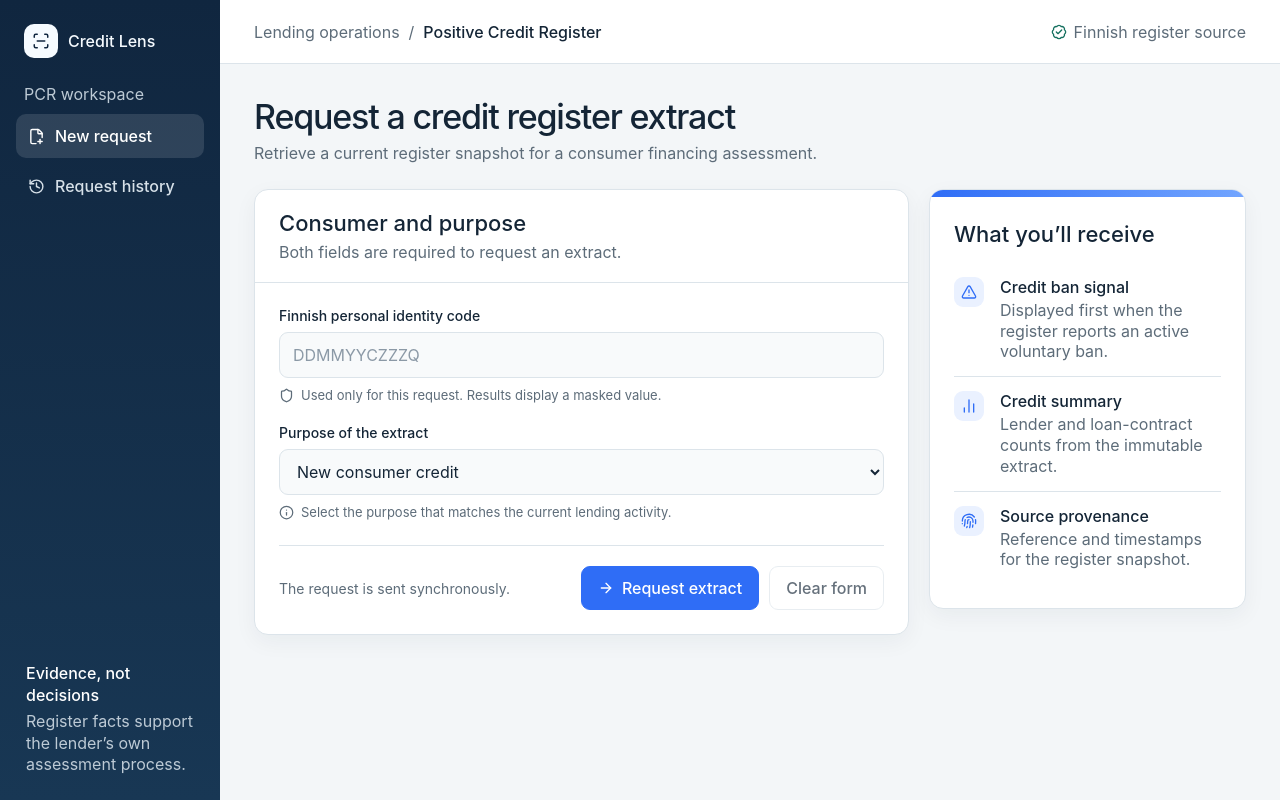
Test: Credit Lens workspace › returns focus to the invalid history input without an error summary
Click the button "Request history" at (110, 186), box x1=16 y1=164 x2=204 y2=208
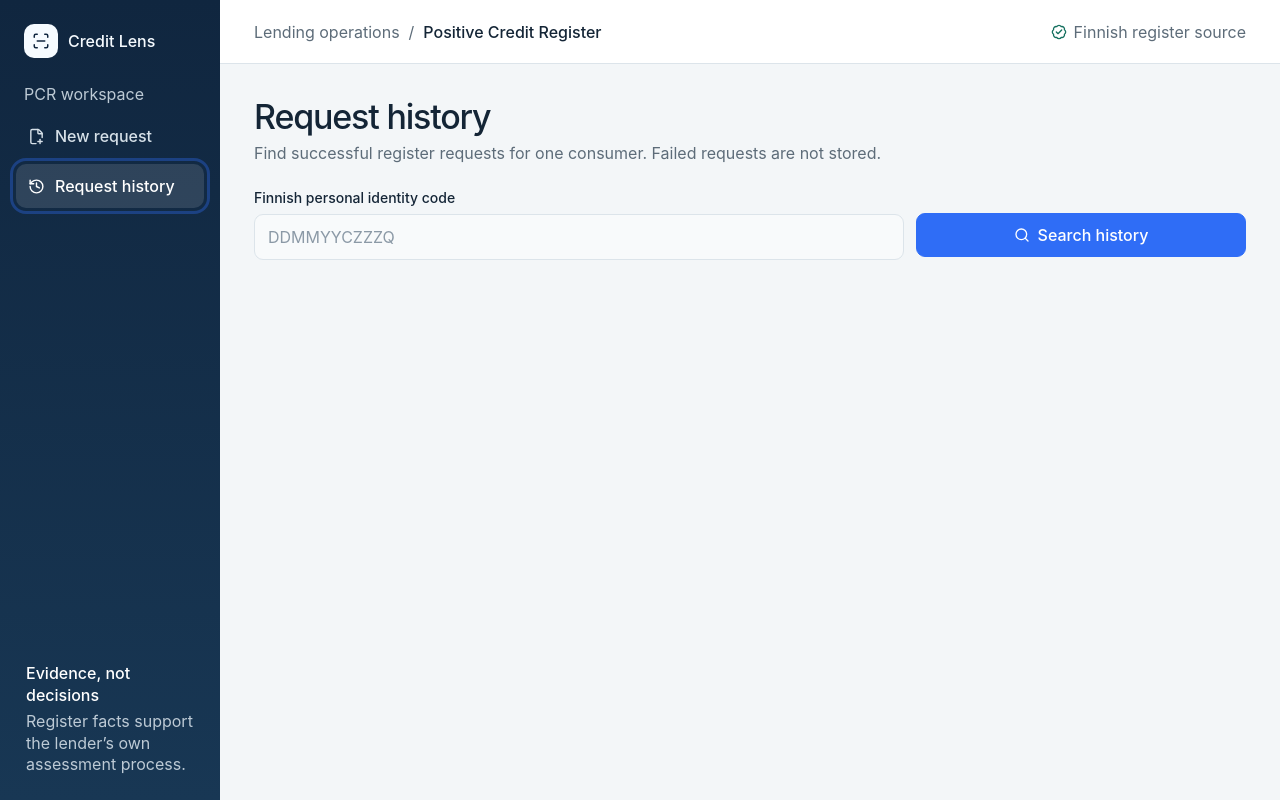
Click the button with aria-label "Search request history" at (1081, 235), box x1=916 y1=213 x2=1246 y2=257
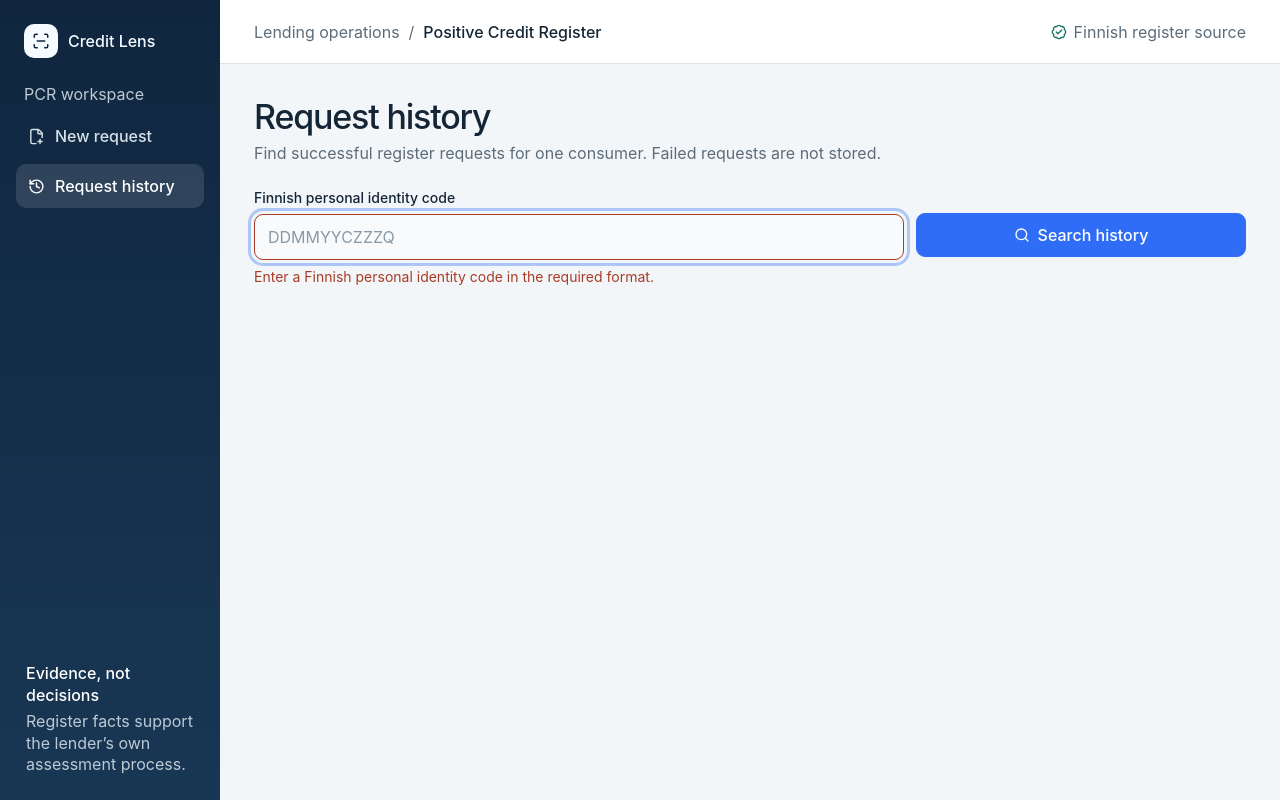
Now the field labelled "Finnish personal identity code" is empty, box x1=254 y1=214 x2=904 y2=260
Now the message reads "Enter a Finnish personal identity code in the required format.", box x1=254 y1=268 x2=654 y2=285
